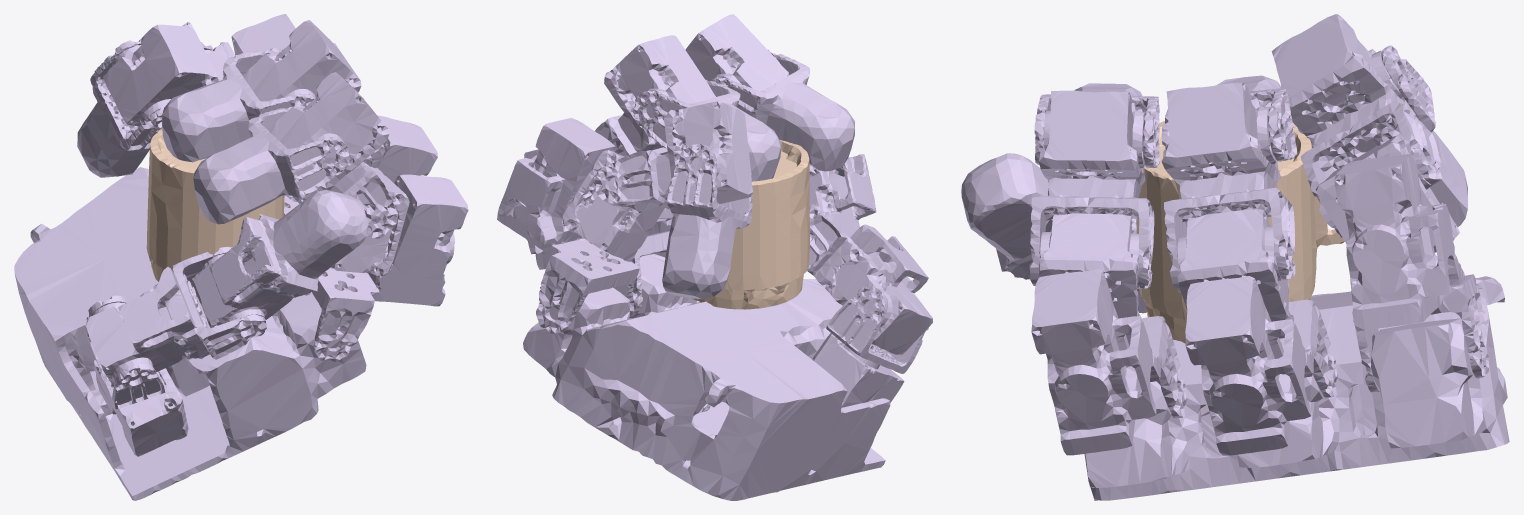
Rendered from f3c44431ccb7b8-closed.glb.
3 views of the same model, side by side, from view 1: azimuth 30°, elevation 25°; view 2: azimuth 150°, elevation 25°; view 3: azimuth 270°, elevation 25° (orthographic). The views are drawn at different scales.
Visible parts, largest first — view 1: LEAP_hand, world; view 2: LEAP_hand, world; view 3: LEAP_hand, world.
Boxes of the visible parts, x1,y1,x2,y2 form: LEAP_hand: (14,14,468,500); world: (146,128,284,297); LEAP_hand: (497,14,932,500); world: (692,140,809,309); LEAP_hand: (961,14,1509,500); world: (1136,121,1344,343).
Size of the model in its own units: 0.1612 by 0.1695 by 0.1597.
